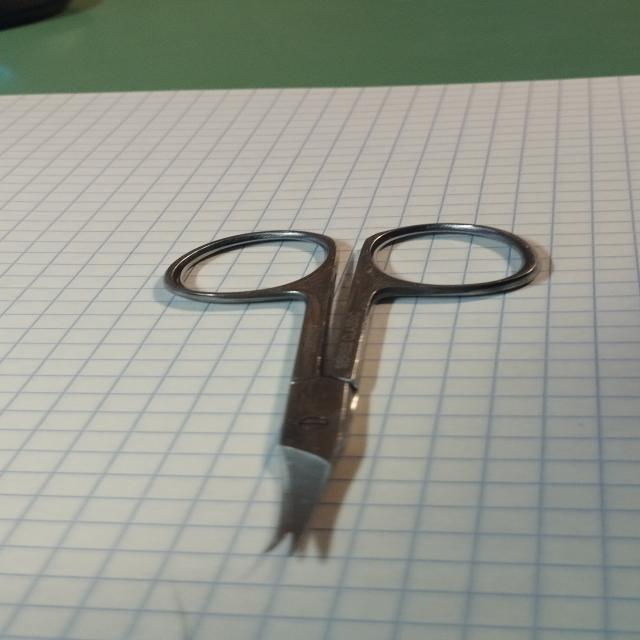tesoura: (158, 218, 552, 566)
